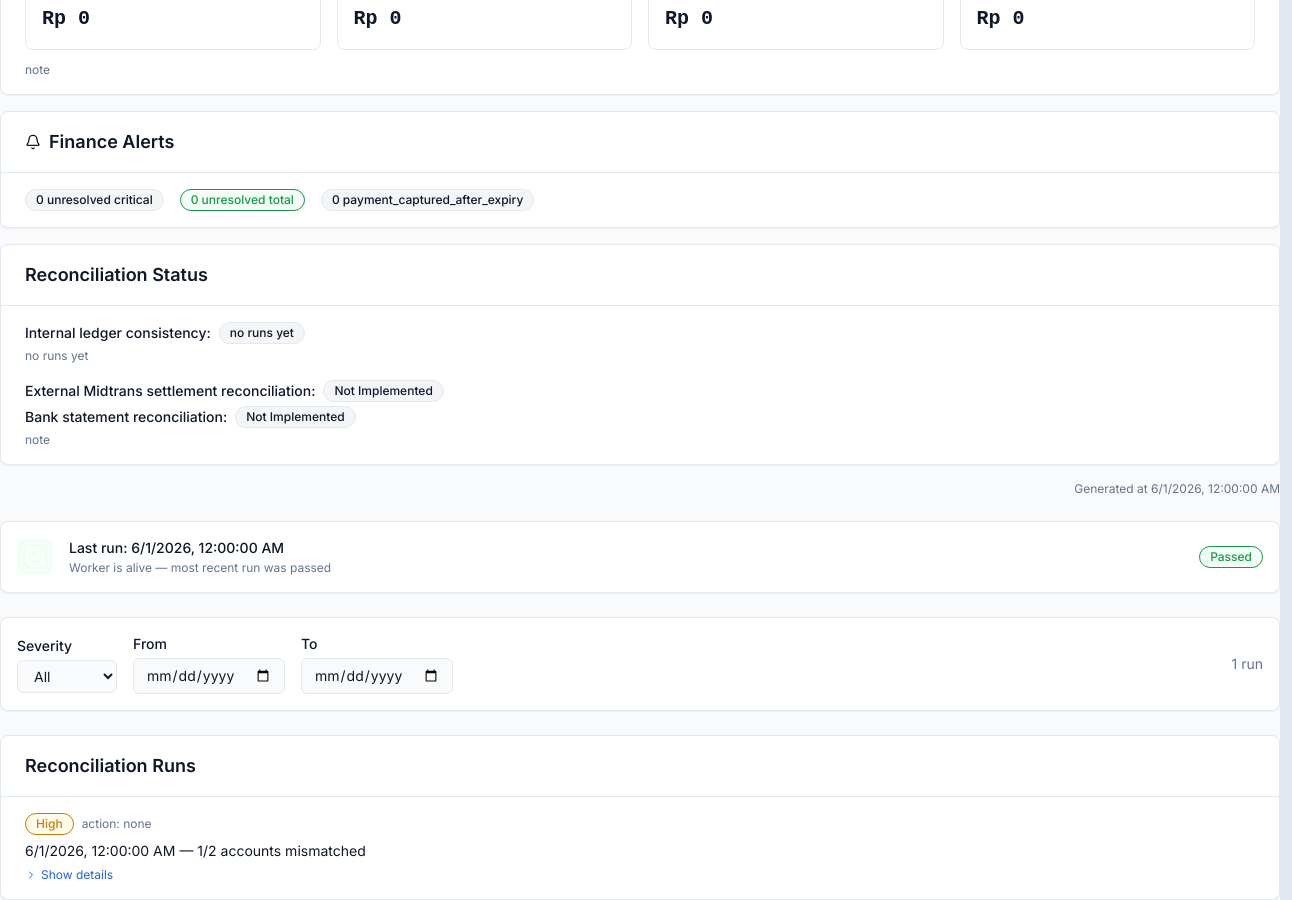
Test case: FinanceReconciliationPage › expands details for a run with a non-empty details payload
(page scrolled)
What coordinates should you click on to do the following:
click the button "Show details"
I would click on:
 (69, 875)
Its box is [25,867,113,883].
(page scrolled)
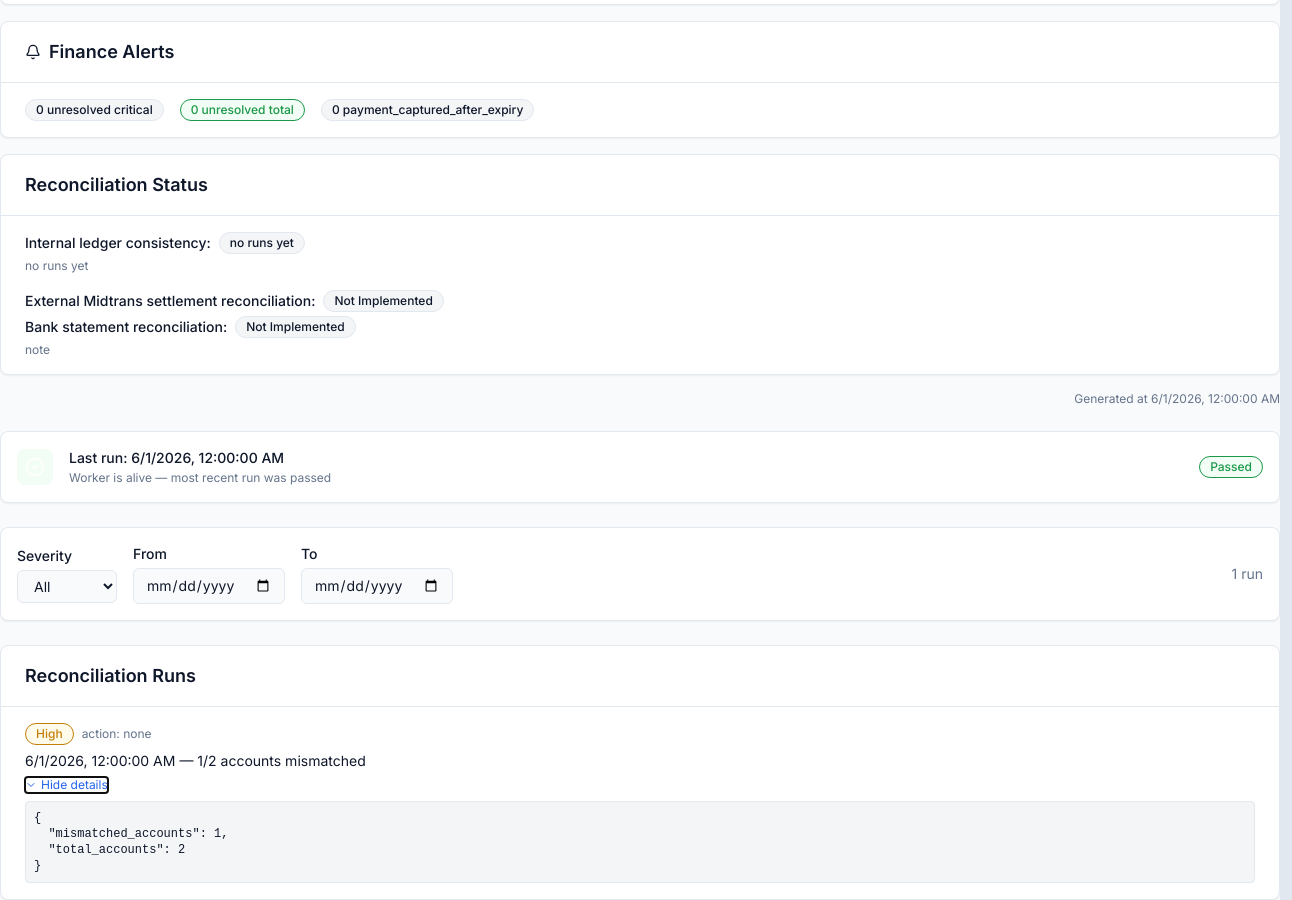
expect the text "{ \"mismatched_accounts\": 1, \"total_accounts\": 2 }" is shown: met, box [25,801,1255,883]
